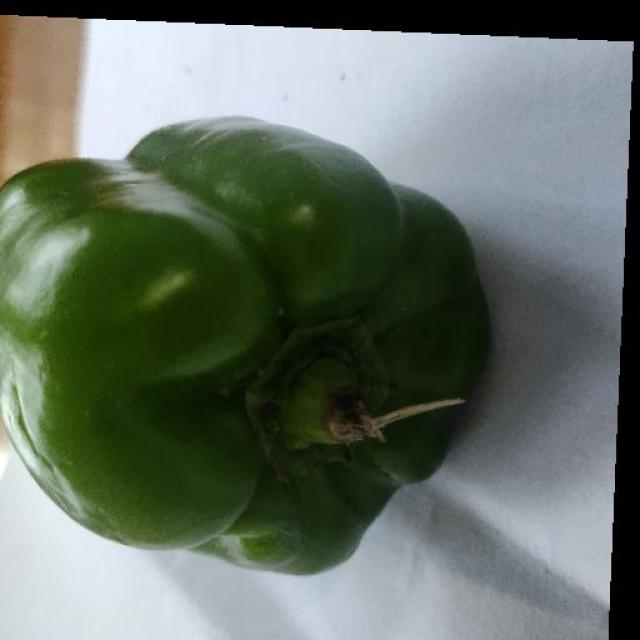Fresh_Capsicum: (0, 124, 473, 606)
